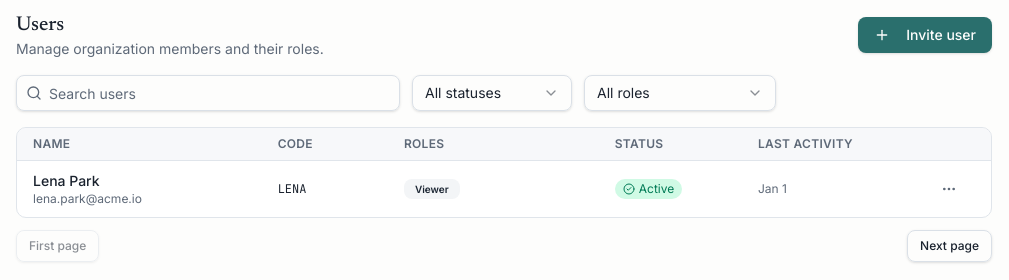
AdminUsers › paginates with next cursor and returns to the first page
Expected: the text "Lena Park" is shown, [33, 172, 100, 189]
Click the button "Next page" at (950, 246), box [907, 230, 992, 262]
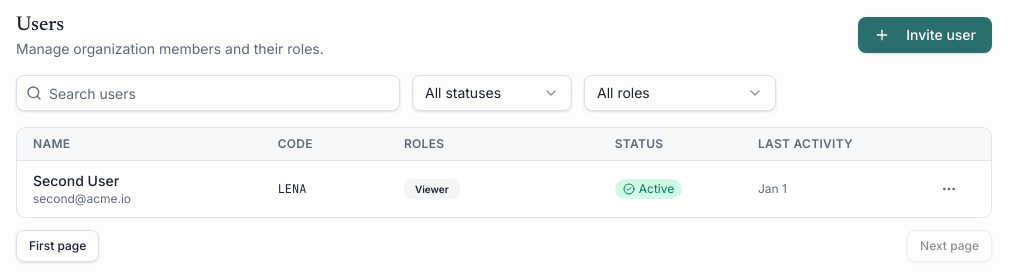
Now the text "Second User" is shown, box [33, 172, 119, 189]
Click the button "First page" at (58, 246), box [16, 230, 99, 262]
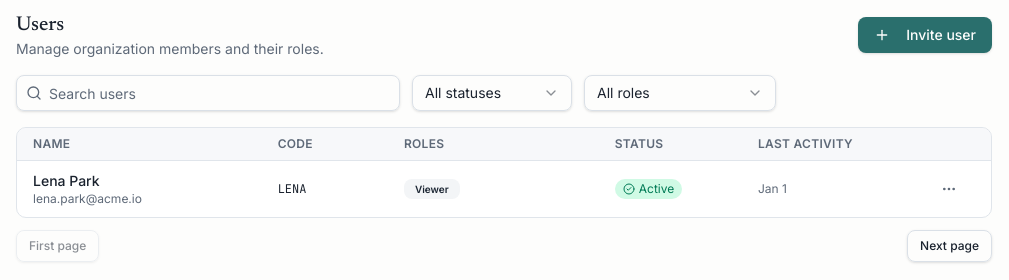
Now the text "Lena Park" is shown, box [33, 172, 100, 189]
